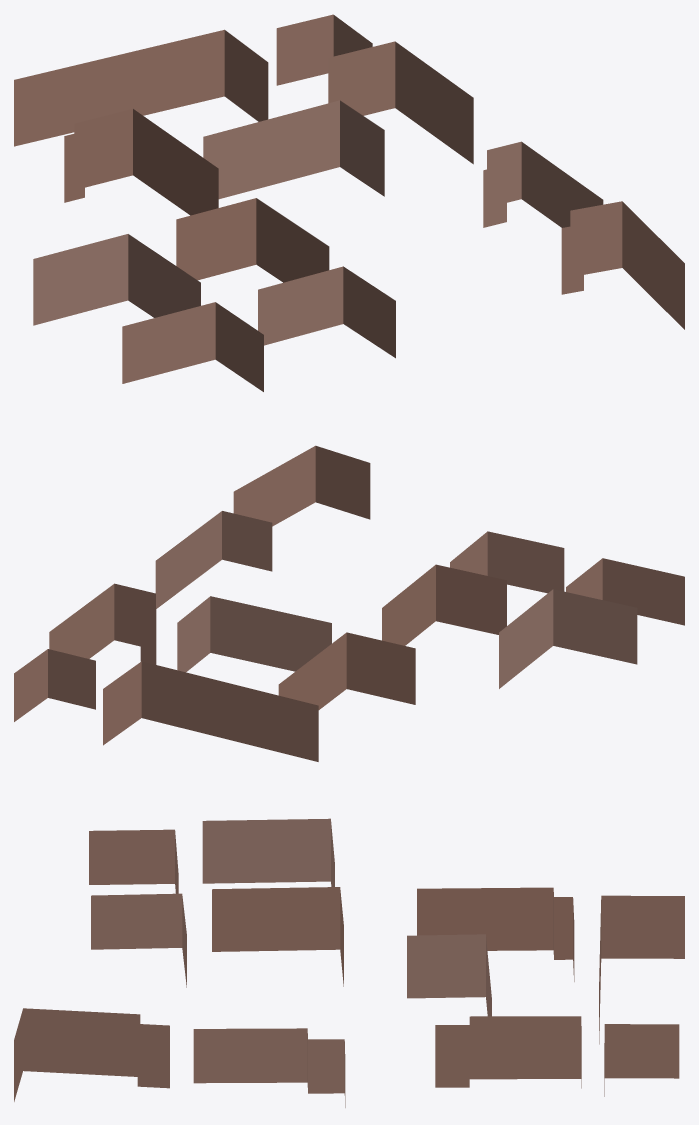
File: c_1634_17831_buildings_residential.glb
The picture shows the model from 3 angles, top to bottom: view 1: azimuth 30°, elevation 25°; view 2: azimuth 150°, elevation 25°; view 3: azimuth 270°, elevation 25°; orthographic projection. The views are drawn at different scales.
Parts seen in each view (by area): view 1: geometry_0; view 2: geometry_0; view 3: geometry_0.
Boxes of the visible parts, bbox=[...] form: geometry_0: bbox=[14, 14, 684, 391]; geometry_0: bbox=[14, 445, 684, 761]; geometry_0: bbox=[14, 818, 684, 1107].
Size of the model in its own units: 86.32 by 11.32 by 107.
